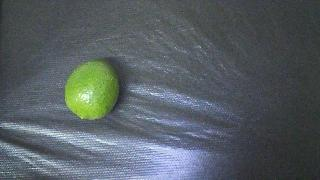LOCAL: (65, 60, 119, 120)
